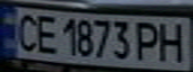1: (57, 15, 78, 56)
3: (112, 17, 136, 61)
7: (90, 17, 115, 60)
8: (72, 16, 93, 57)
C: (9, 10, 42, 53)
E: (30, 11, 60, 55)
H: (154, 18, 190, 63)
P: (133, 18, 163, 62)
